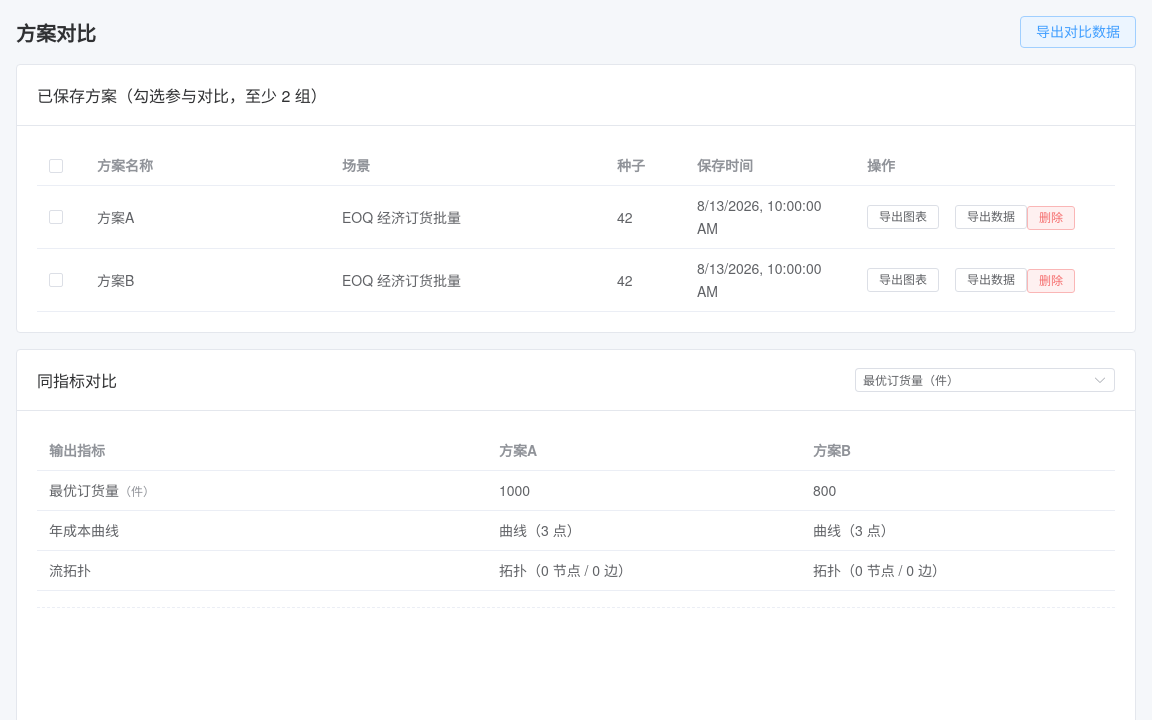
Test: CompareView（T038） › 删除方案需确认：确认后从列表与存储移除，勾选同步收窄
Click the button with test id "compare-delete-a1": [1051, 218] box [1027, 206, 1075, 230]
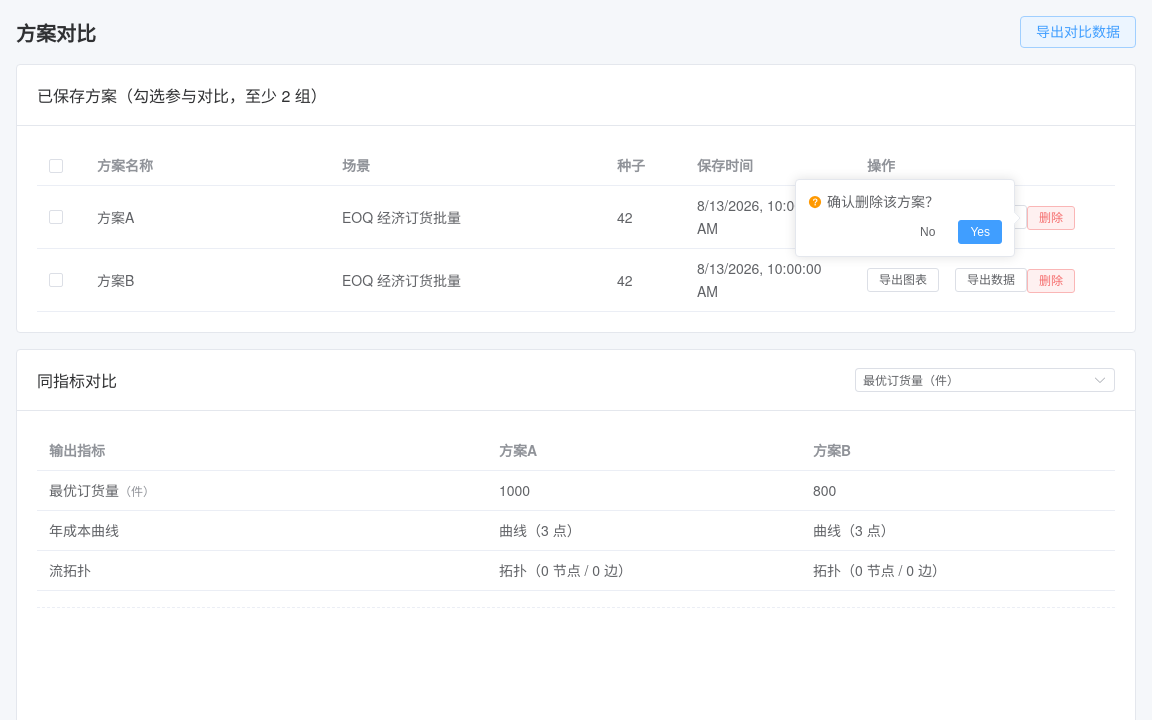
Check: the 4th button is shown
Click the 4th button: [980, 232] box [958, 220, 1002, 244]
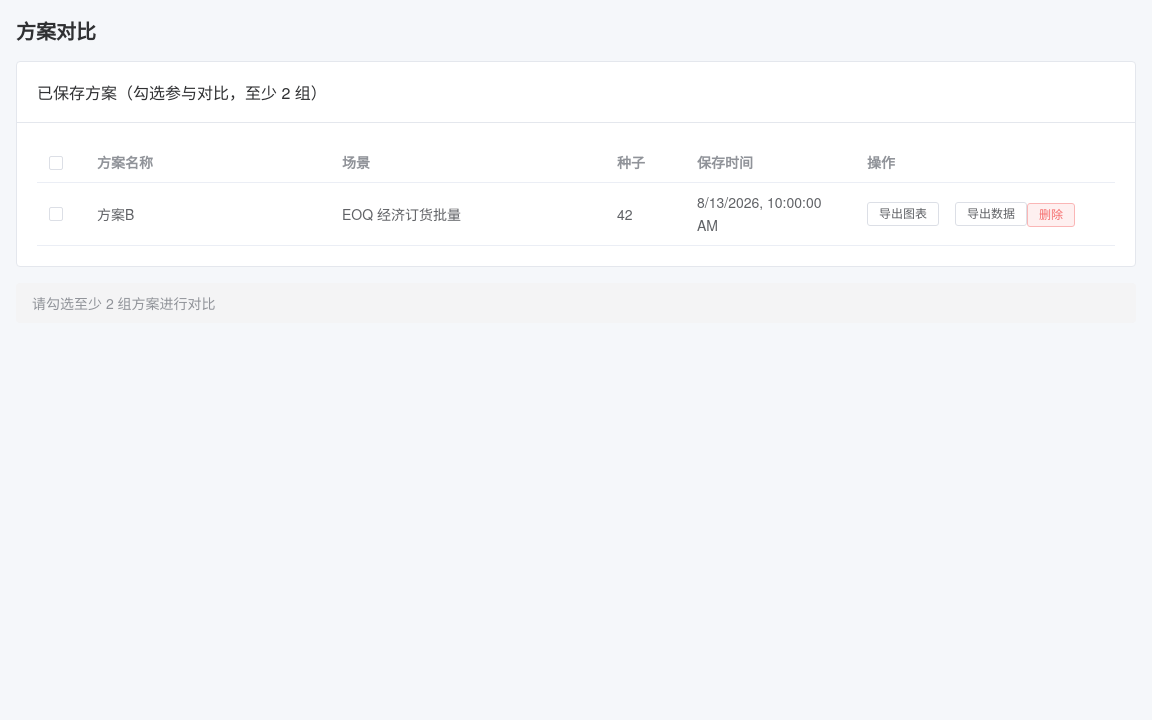
Check: the element with test id "compare-need-two" is shown, box [16, 283, 1136, 323]
